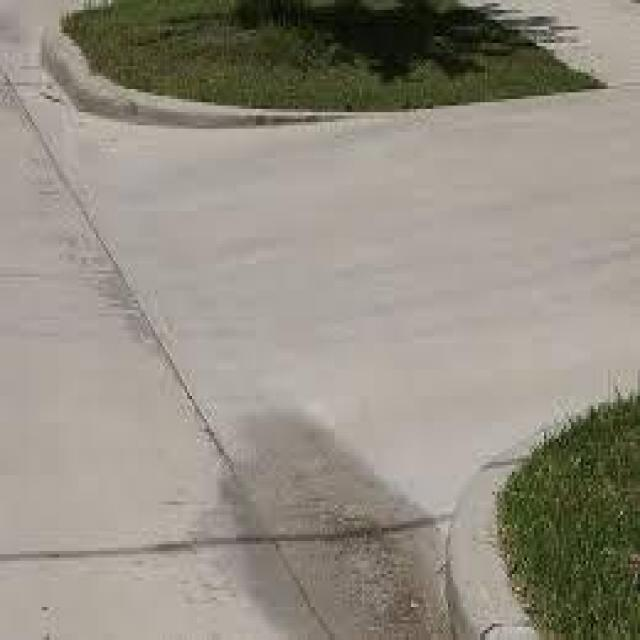curb: (41, 38, 258, 123), (437, 459, 533, 633)
